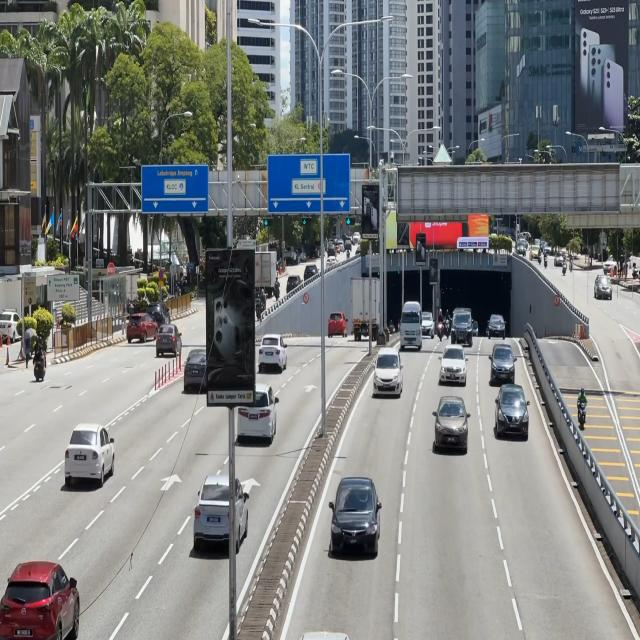Car: (1, 560, 80, 640), (193, 472, 251, 558), (329, 474, 384, 558), (63, 424, 118, 489), (493, 384, 531, 444), (432, 399, 470, 452), (373, 348, 404, 402), (438, 341, 469, 387), (490, 340, 518, 388), (258, 335, 289, 376), (183, 348, 209, 395), (400, 302, 424, 351), (449, 306, 475, 349), (155, 322, 184, 356)
